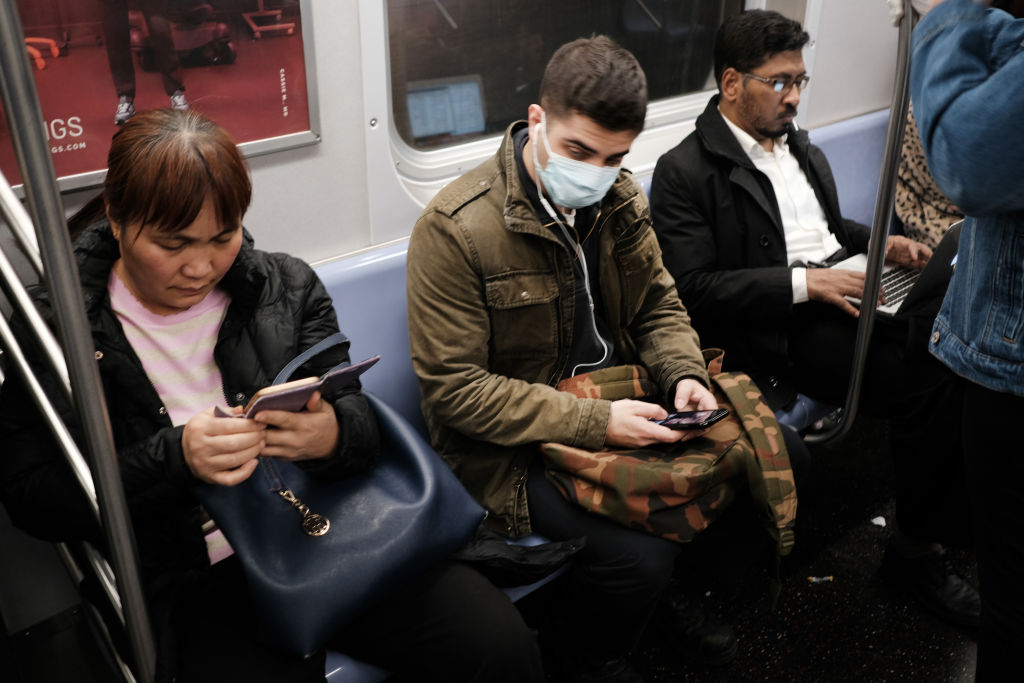with_mask: (544, 119, 619, 198)
without_mask: (142, 220, 226, 303), (750, 64, 800, 128)
